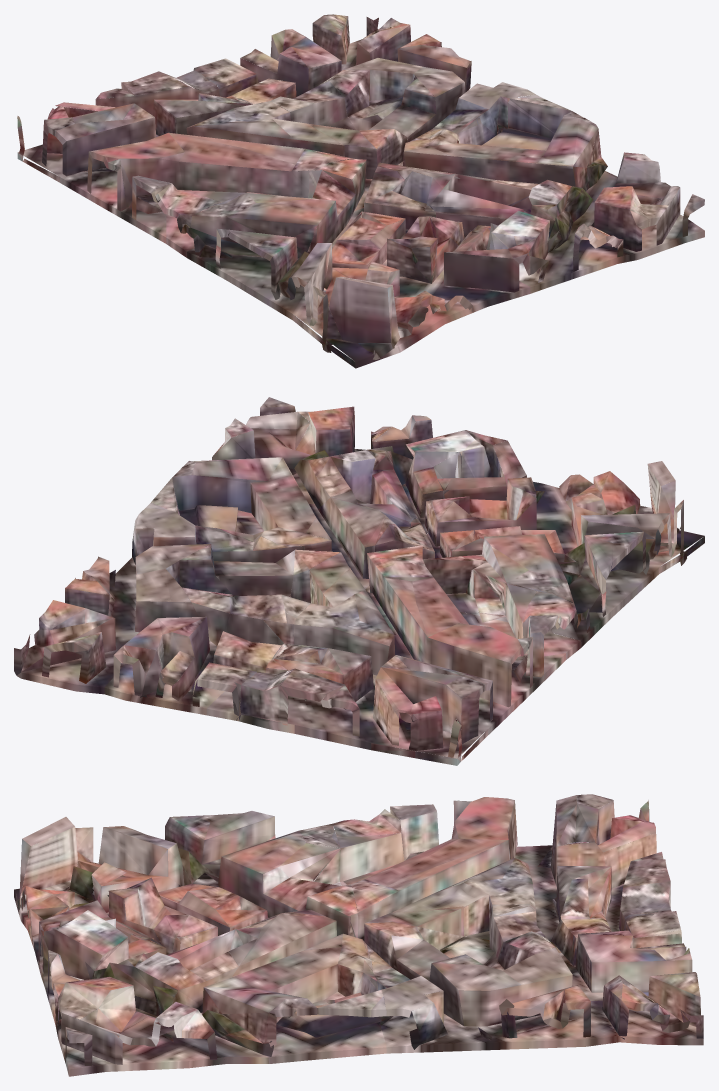
3 renders of one model, top to bottom at view 1: azimuth 30°, elevation 25°; view 2: azimuth 150°, elevation 25°; view 3: azimuth 270°, elevation 25°, orthographic. The views are drawn at different scales.
Visible parts, largest first — view 1: Mesh_0; view 2: Mesh_0; view 3: Mesh_0.
Boxes of the visible parts, box(x1,y1,x2,y2) form: Mesh_0: box(17, 14, 704, 368); Mesh_0: box(14, 397, 704, 765); Mesh_0: box(14, 794, 703, 1076).
Size of the model in its own units: 269 by 45.82 by 330.
Materials: 2 (2 with a texture image).
